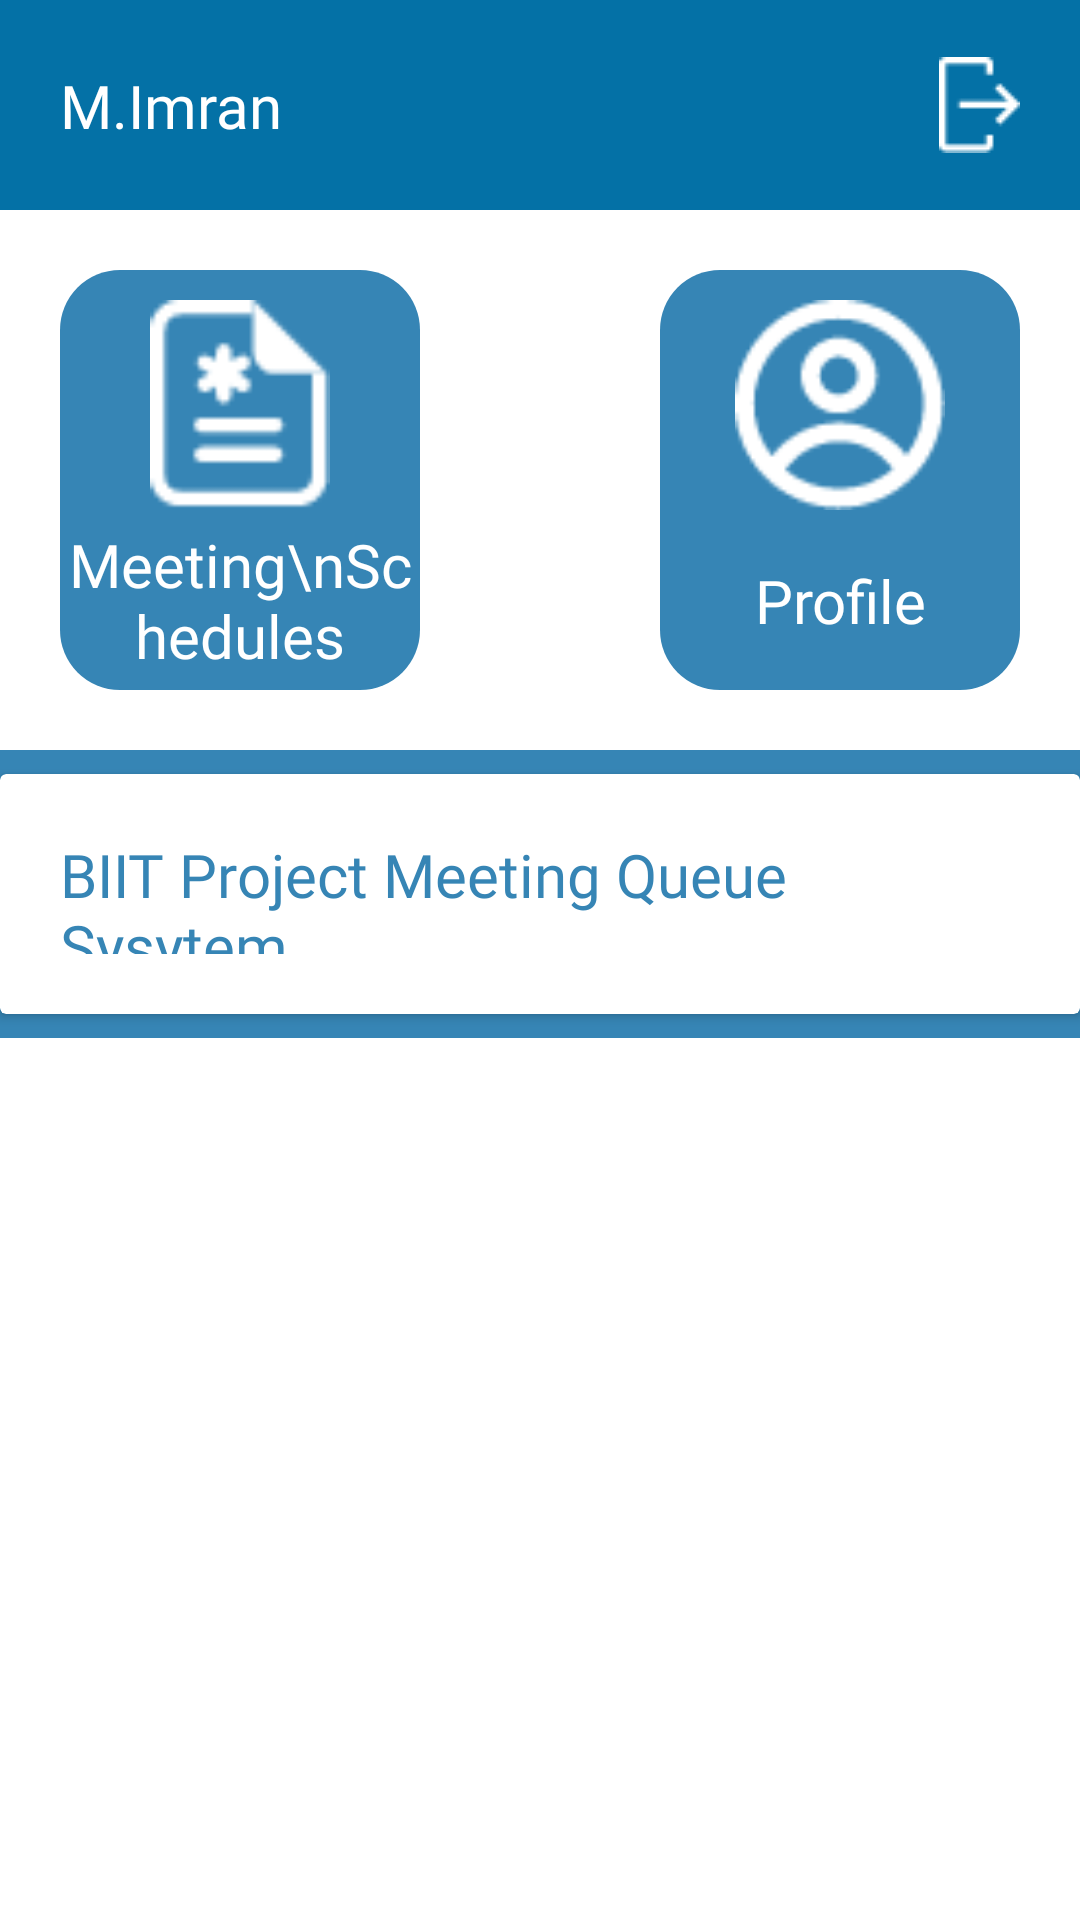

Locate icon controls on the screen. Image size 1080px x 1920px, boxes as (x1, y1, x2, y2).
fileearmark: (150, 300, 330, 507)
